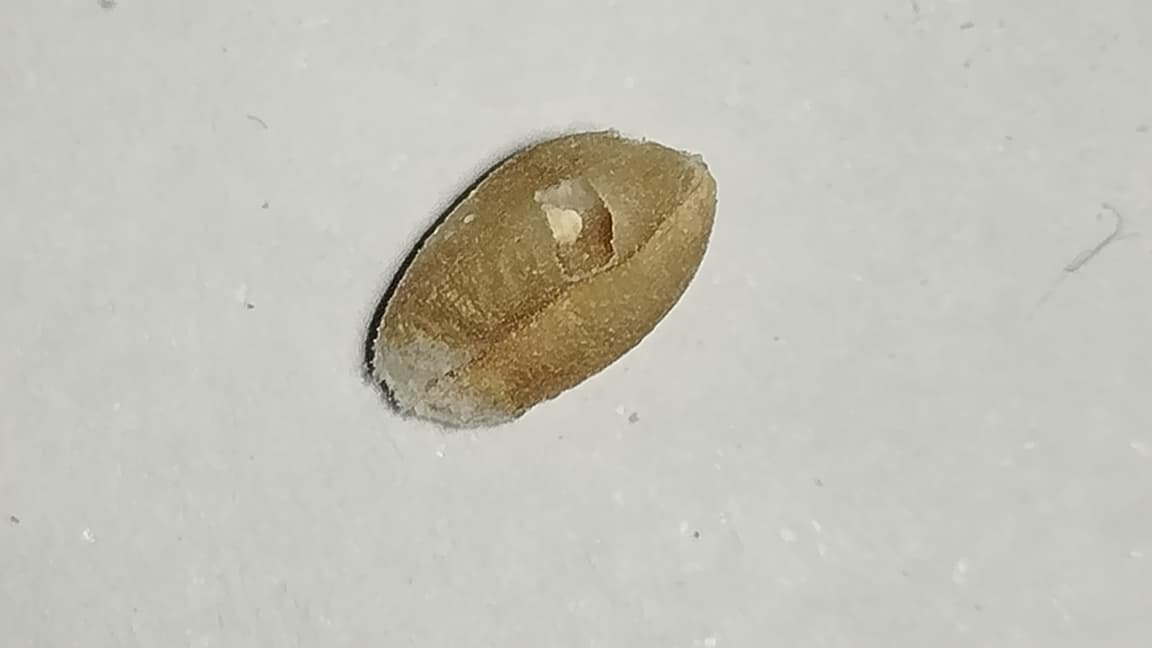damage: (367, 129, 715, 428)
insectdamage: (533, 176, 634, 285)
